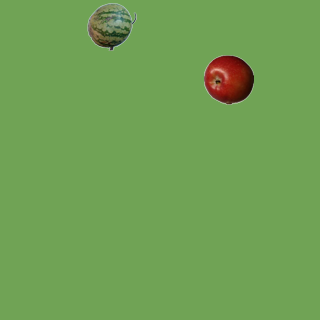Apple Braeburn: (203, 54, 253, 104)
Watermelon: (86, 1, 136, 51)
